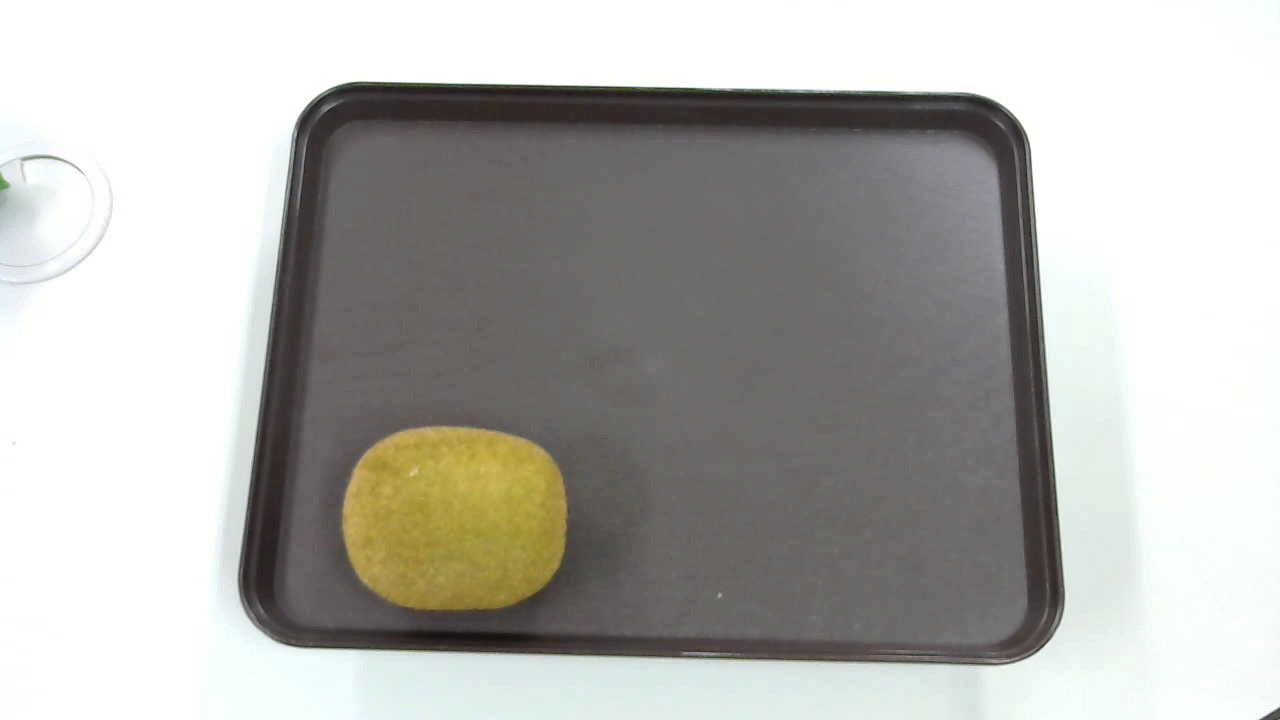mangosteen: (334, 419, 571, 608)
